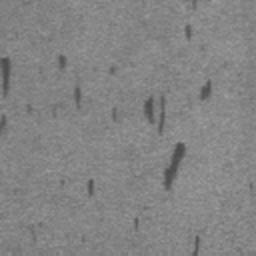Red iron sheet: (111, 79, 211, 191), (58, 54, 82, 109), (0, 56, 10, 96), (193, 236, 200, 256), (87, 179, 95, 196), (184, 24, 192, 40), (133, 219, 140, 232)
